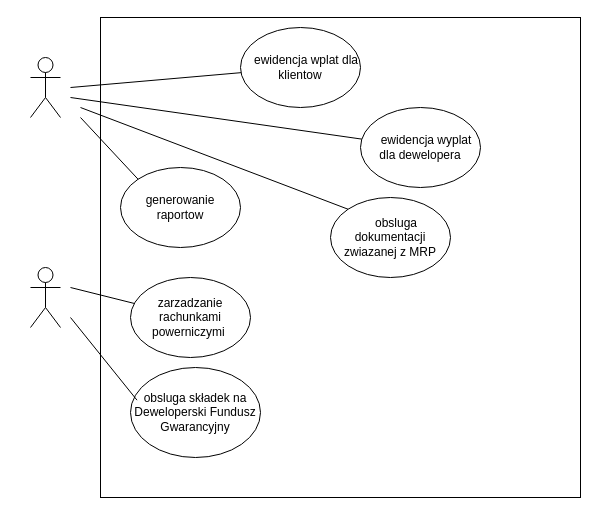
Image size: 598x515. Some labels were removed from this diagram. Each missing label, with the box of its shape:
Bank: (30, 56, 60, 118)
Deweloper: (30, 266, 60, 328)
